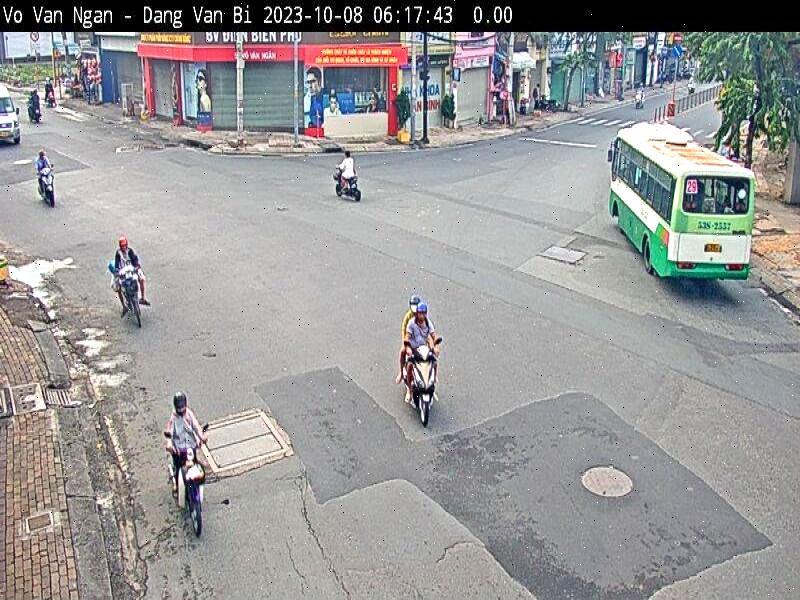bus: (608, 119, 755, 286)
car: (0, 82, 20, 148)
motorcycle: (164, 423, 210, 536), (404, 337, 442, 428), (115, 264, 148, 328), (334, 163, 363, 201), (36, 163, 55, 207), (27, 100, 42, 124), (634, 89, 644, 109), (46, 90, 56, 107)
